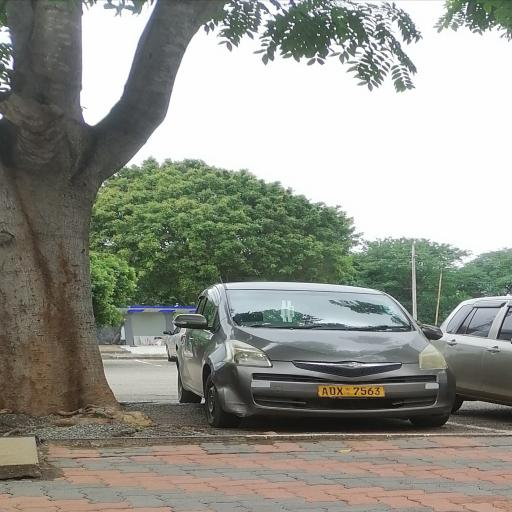number-plates: (320, 384, 387, 400)
